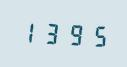five: (84, 21, 105, 49)
nine: (62, 19, 83, 48)
one: (18, 17, 39, 45)
three: (40, 18, 61, 46)
